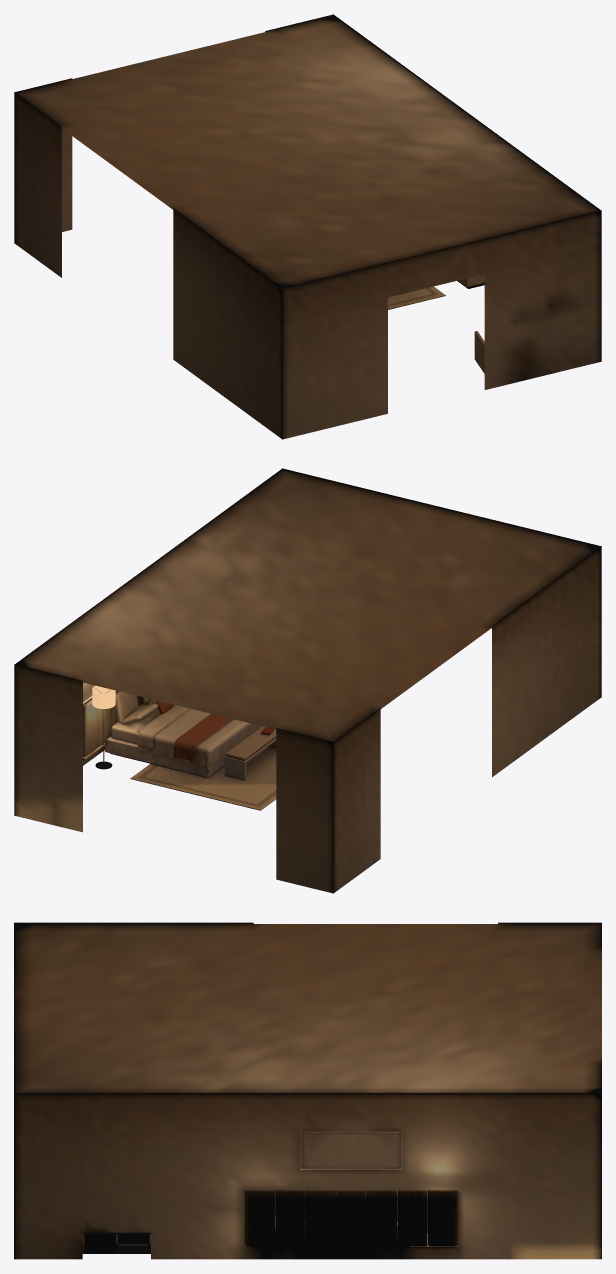
Rendered from bedroom.glb.
The picture shows the model from 3 angles, top to bottom: view 1: azimuth 30°, elevation 25°; view 2: azimuth 150°, elevation 25°; view 3: azimuth 270°, elevation 25°; orthographic projection. The views are drawn at different scales.
Visible parts, largest first — view 1: bedroom__roof__vtx, bedroom__upper__vtx; view 2: bedroom__roof__vtx, bedroom__upper__vtx; view 3: bedroom__roof__vtx, bedroom__upper__vtx.
Boxes of the visible parts, bbox=[...] form: bedroom__roof__vtx: bbox=[14, 16, 601, 289]; bedroom__upper__vtx: bbox=[14, 14, 601, 439]; bedroom__roof__vtx: bbox=[14, 469, 601, 743]; bedroom__upper__vtx: bbox=[14, 468, 601, 893]; bedroom__roof__vtx: bbox=[14, 924, 601, 1094]; bedroom__upper__vtx: bbox=[14, 922, 601, 1259].
Size of the model in its own units: 6.63 by 3 by 9.63.
